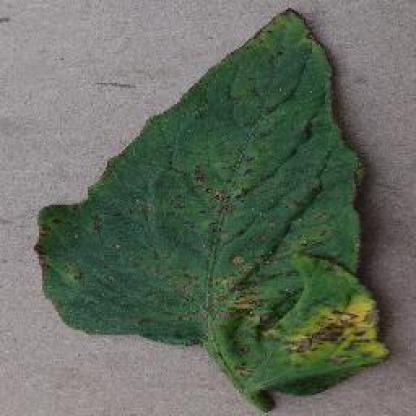bad leaf: (81, 34, 375, 378)
